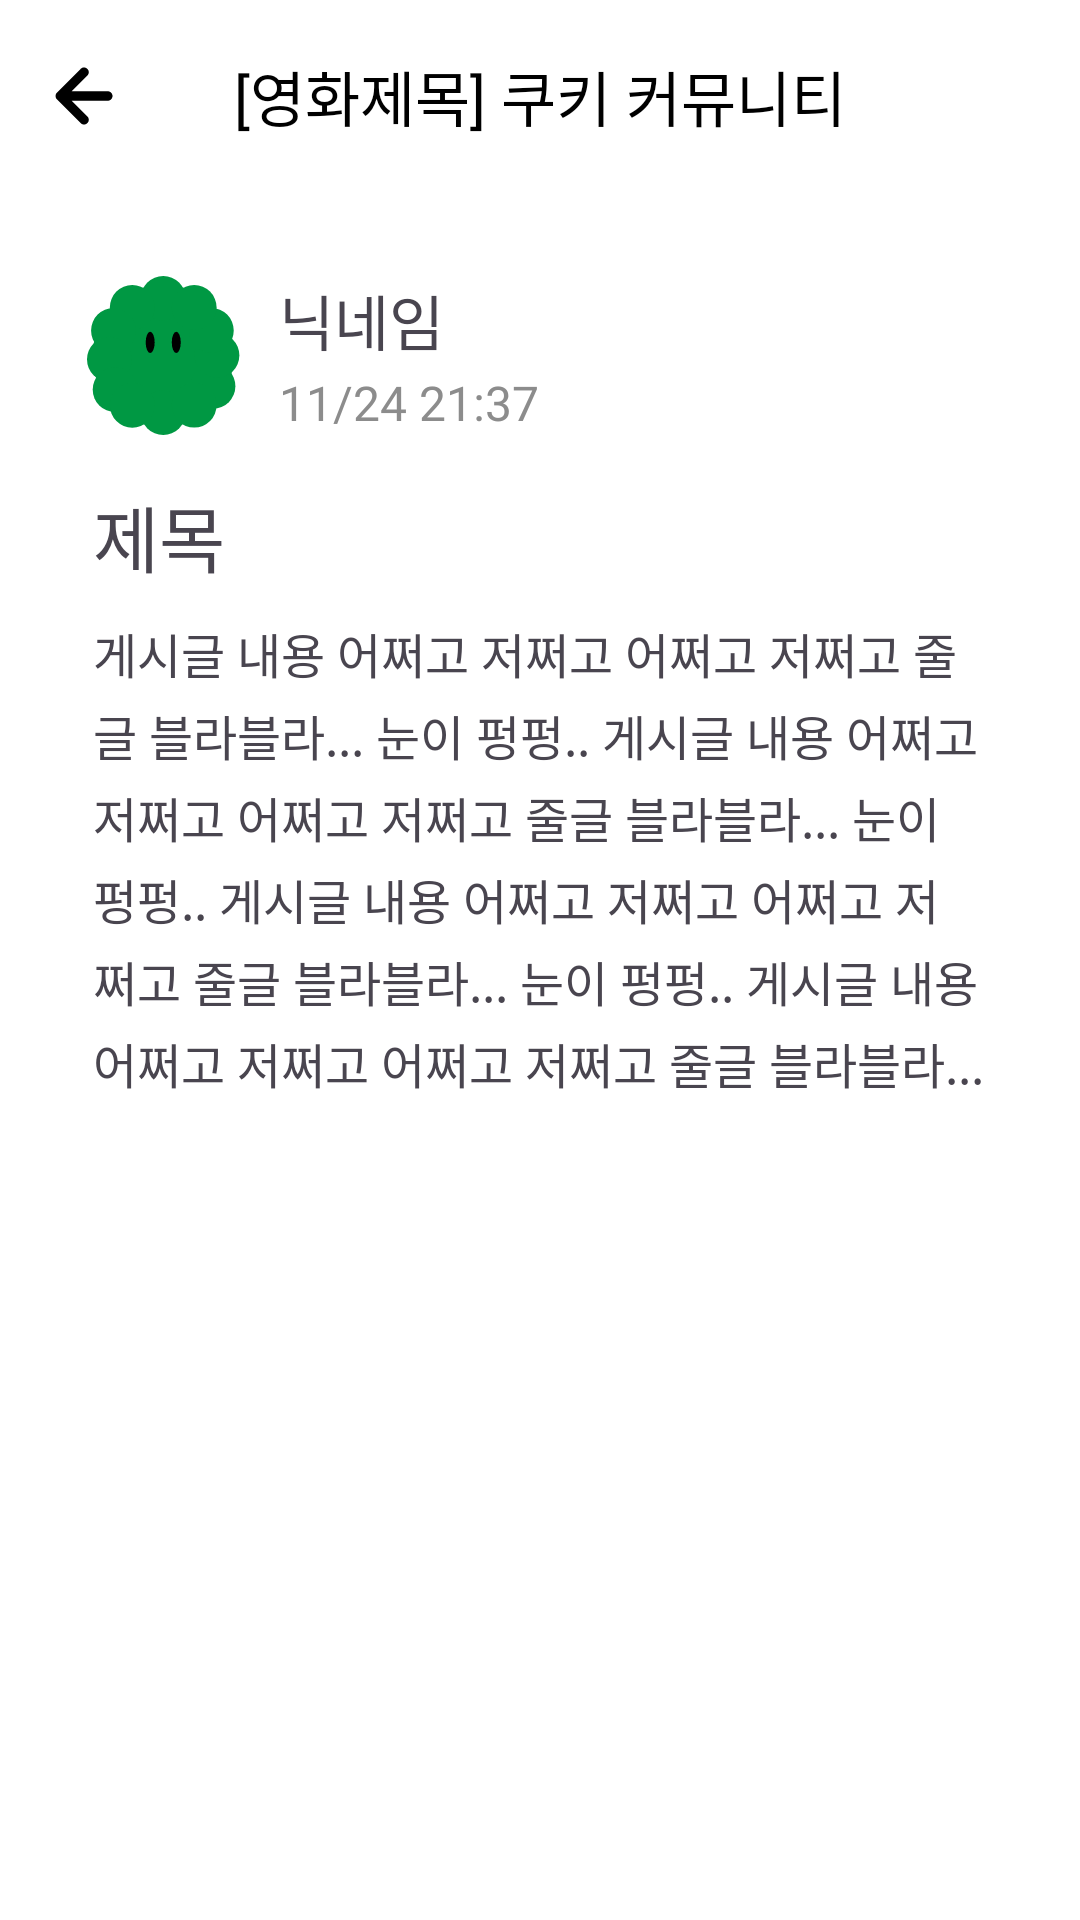

Icon click points for this 1080 × 1920 phone screenshot, format (x,y):
cookie time: (163,355)
